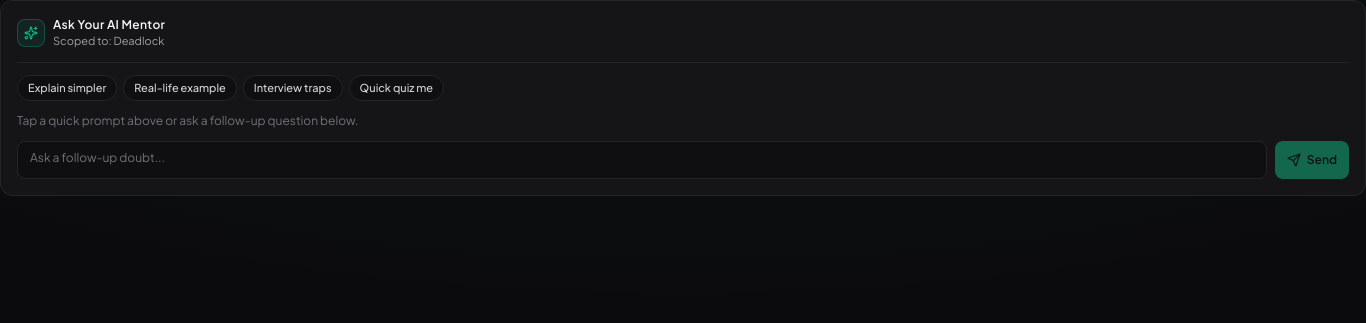
<AiTutorChat /> › sends a quick-chip prompt and renders the assistant reply
This screenshot has width=1366, height=323.
Click the button "Explain simpler" at (67, 88), box [17, 74, 117, 101]
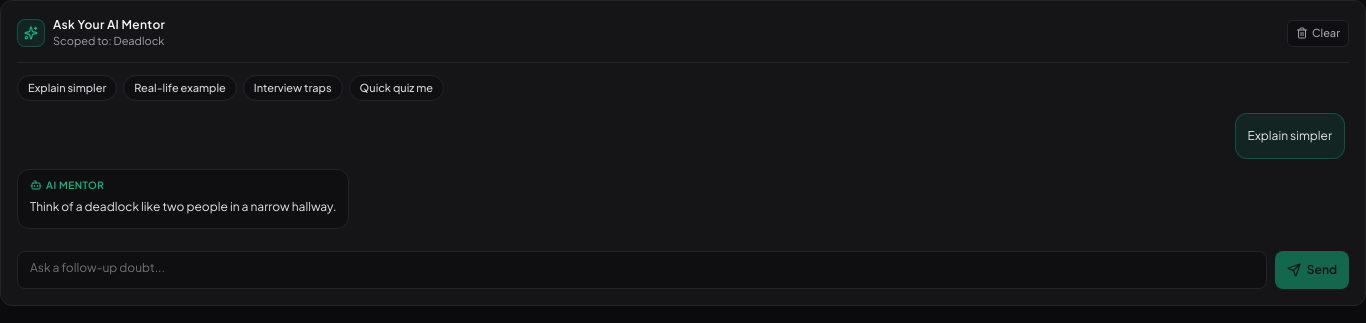
Expected: the text "Think of a deadlock like two people in a narrow hallway." is shown, [30, 196, 336, 216]
